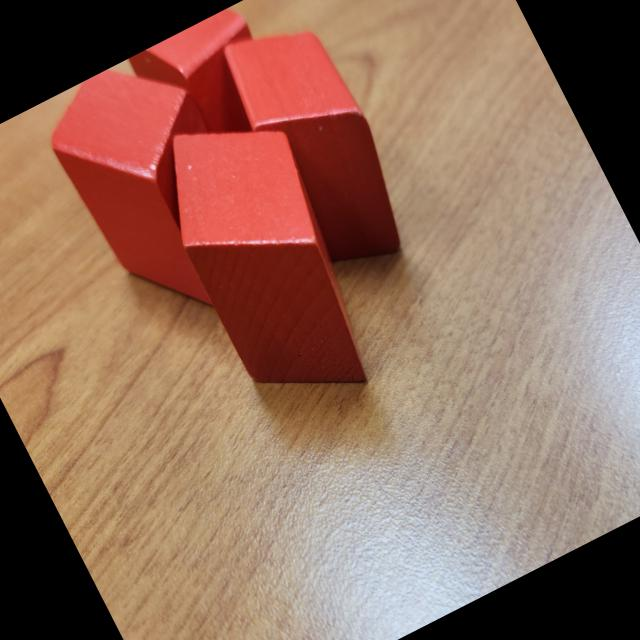red: (134, 89, 403, 432), (32, 44, 280, 340), (200, 0, 429, 291), (125, 3, 290, 166)
